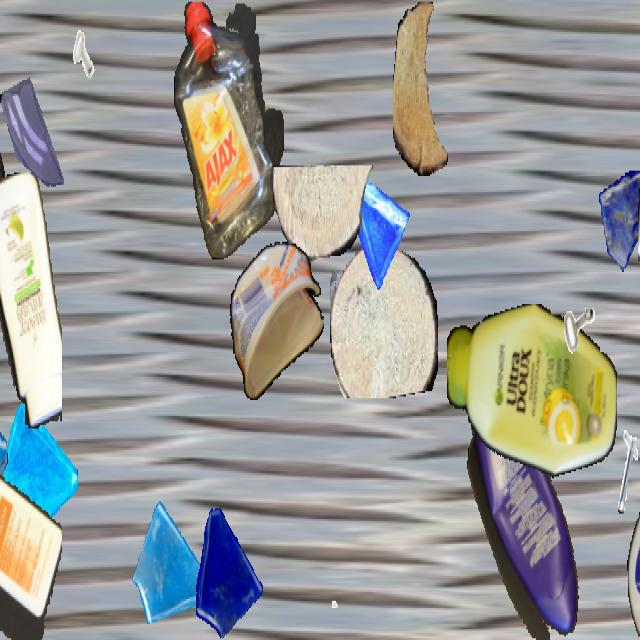glass: (0, 400, 78, 567), (132, 496, 212, 638), (187, 500, 265, 638), (340, 167, 410, 292), (0, 68, 68, 192), (599, 171, 640, 270), (0, 427, 8, 533)
metal: (543, 254, 603, 361), (603, 430, 640, 530), (65, 21, 103, 89), (307, 553, 345, 620)
plastic: (447, 304, 617, 482), (464, 386, 584, 638), (173, 2, 283, 258), (0, 172, 62, 428), (230, 242, 324, 402), (0, 439, 62, 638), (627, 301, 640, 638), (638, 164, 640, 278)
wood: (330, 242, 438, 398), (393, 2, 453, 176), (273, 166, 373, 262), (0, 2, 4, 300)
